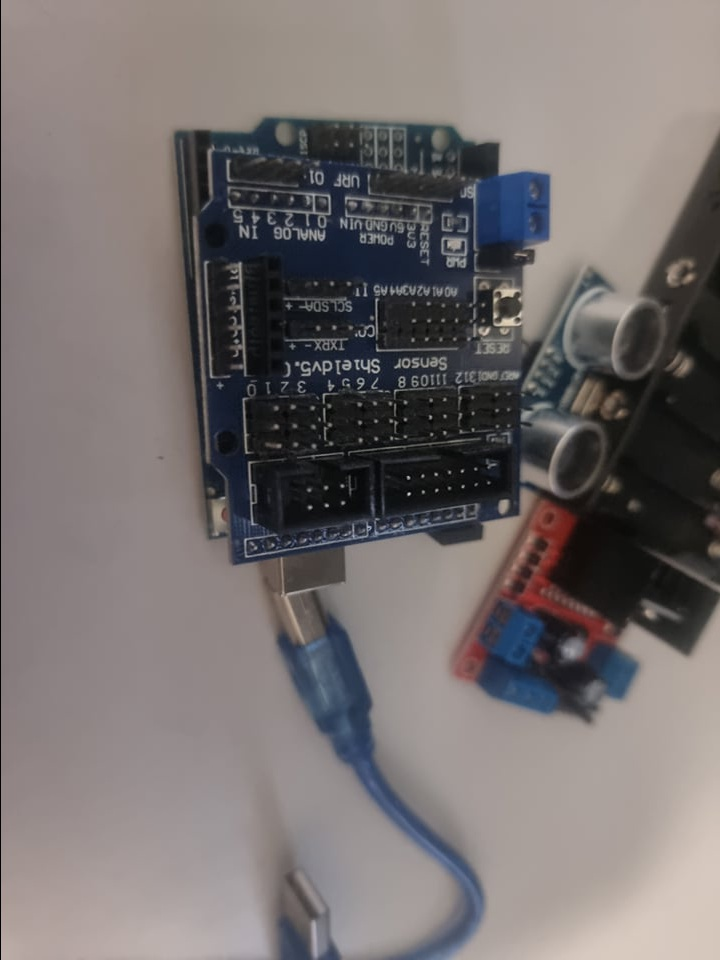5V EXPANSION: (227, 169, 550, 547)
MOTOR: (457, 511, 717, 717)
SENSOR: (512, 277, 661, 489)
